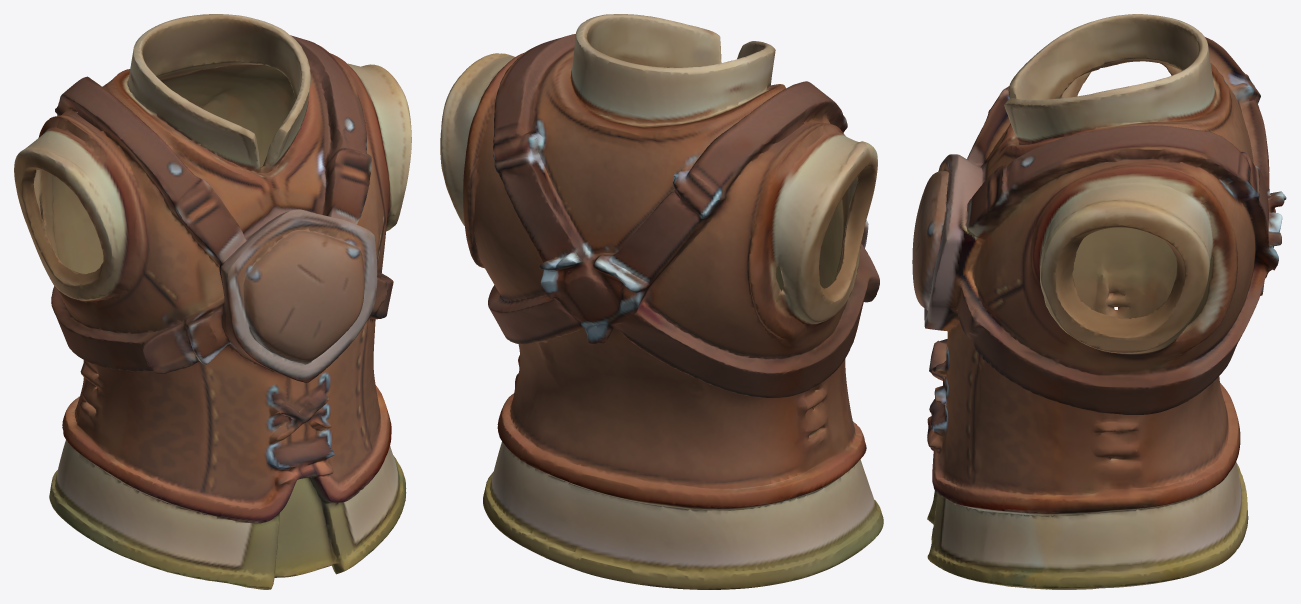
Rendered from peito-arqueiro.glb.
3 renders of one model, left to right at view 1: azimuth 30°, elevation 25°; view 2: azimuth 150°, elevation 25°; view 3: azimuth 270°, elevation 25°, orthographic. The views are drawn at different scales.
Parts seen in each view (by area): view 1: tripo_node_f950e674-797e-4c8a-a71c-9a79cf78cb66.001; view 2: tripo_node_f950e674-797e-4c8a-a71c-9a79cf78cb66.001; view 3: tripo_node_f950e674-797e-4c8a-a71c-9a79cf78cb66.001.
Part boxes in pixels (<box>): tripo_node_f950e674-797e-4c8a-a71c-9a79cf78cb66.001: <box>14,14,411,589</box>; tripo_node_f950e674-797e-4c8a-a71c-9a79cf78cb66.001: <box>440,14,883,589</box>; tripo_node_f950e674-797e-4c8a-a71c-9a79cf78cb66.001: <box>912,14,1286,589</box>.
Bounding box in the file's own units: 0.1901 × 0.2451 × 0.1657.
Materials: 1 (1 with a texture image).
